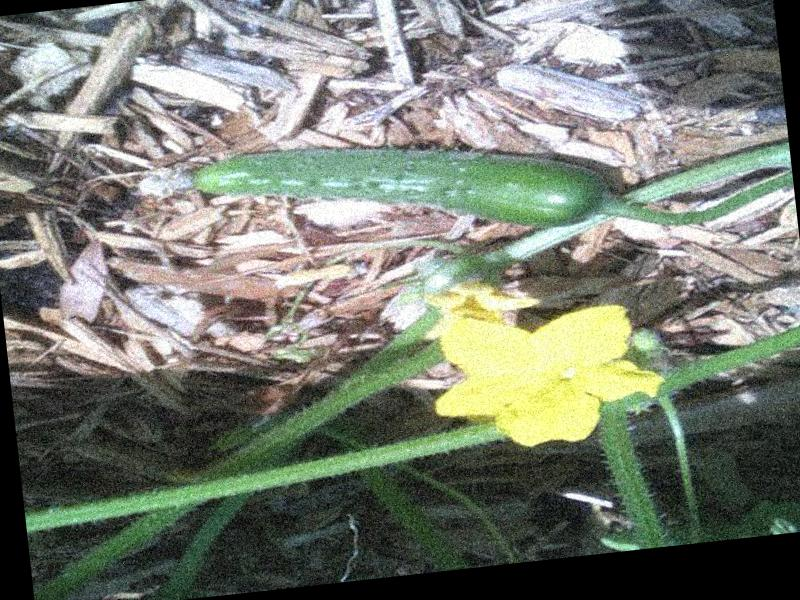Cucumber: (145, 110, 617, 271)
